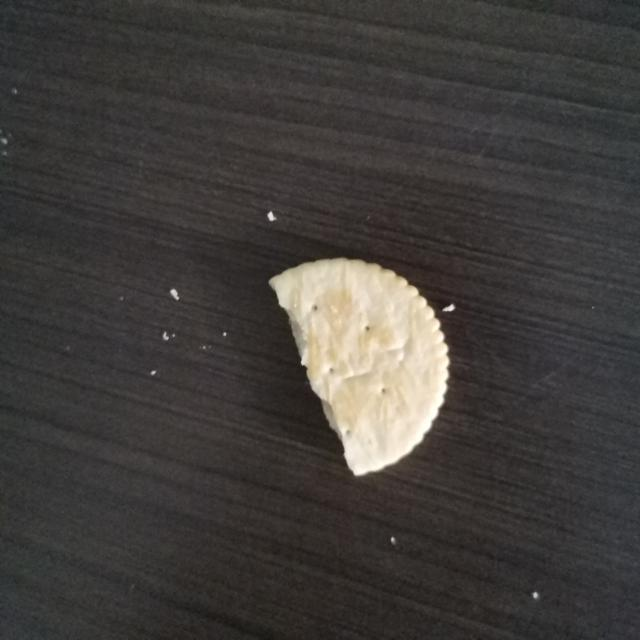Broken: (267, 256, 451, 477)
